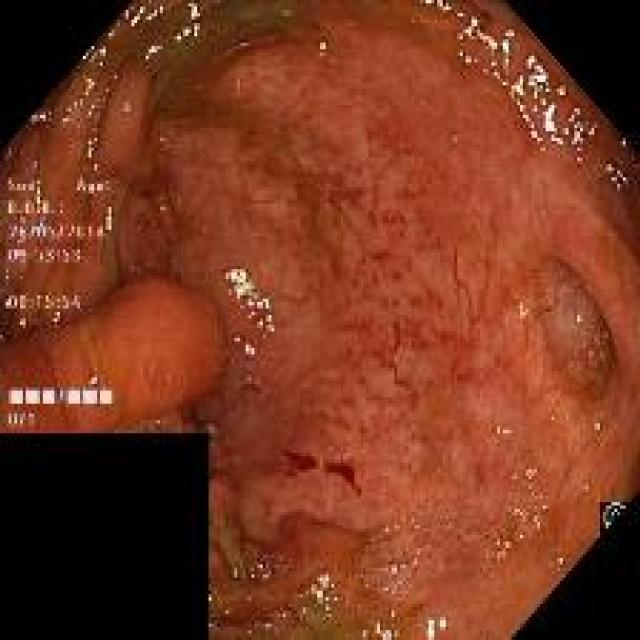Polyps: (125, 40, 618, 638)
